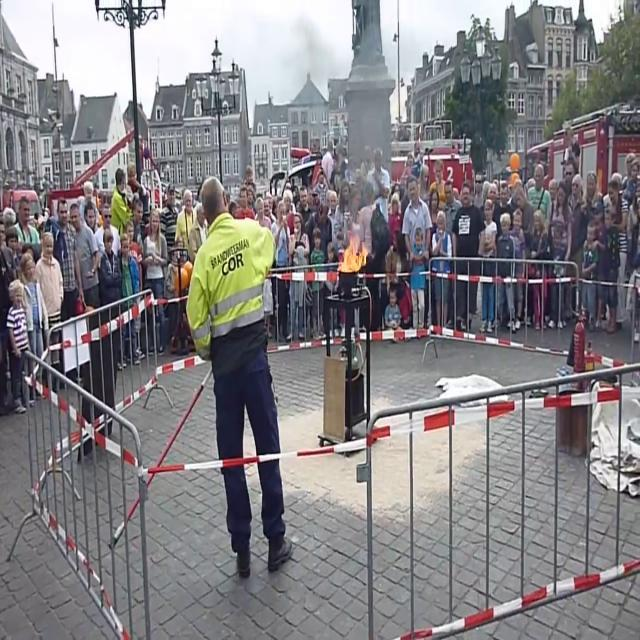Fire: (336, 219, 370, 278)
Smoke: (298, 17, 338, 106)
